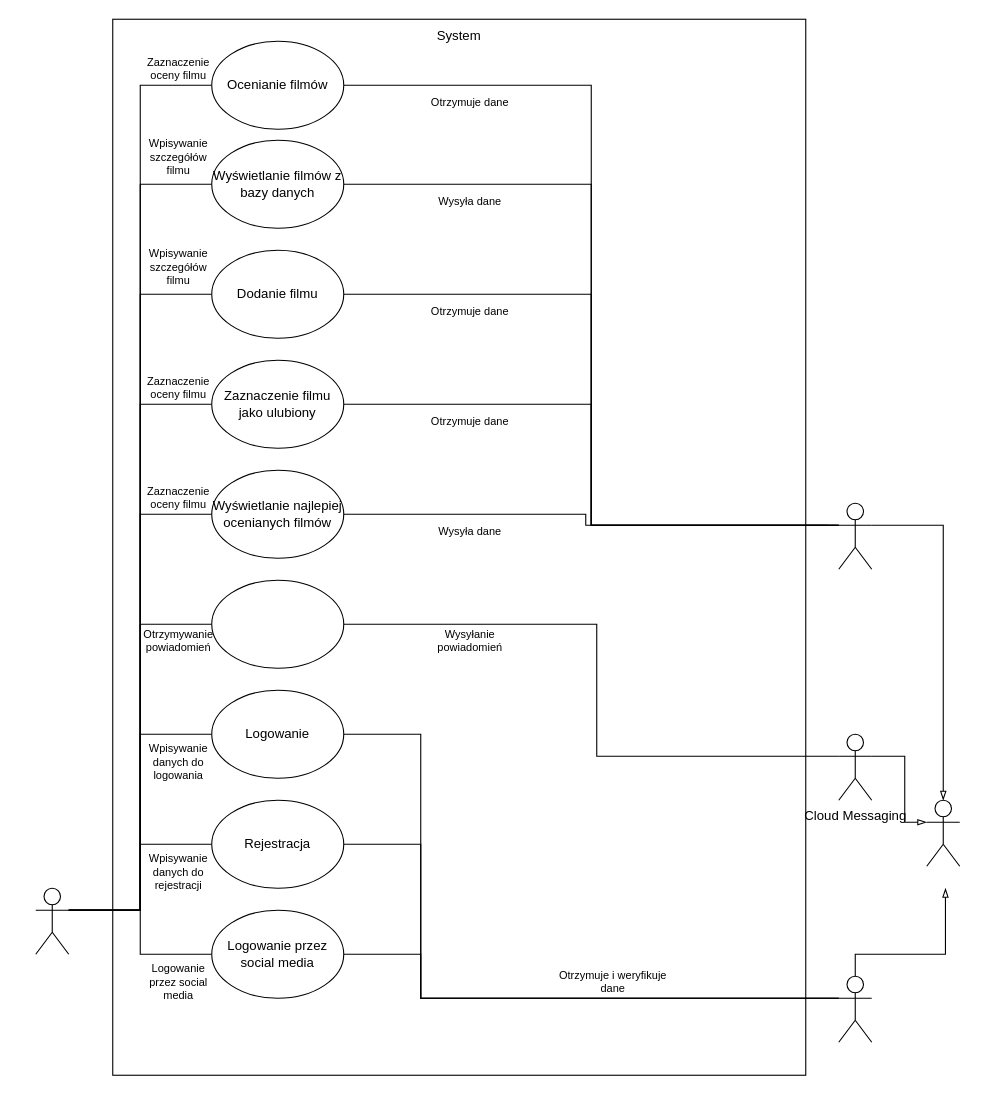
This 988x1095 diagram has some shape labels left out. Here are the shapes that lost their labels. From the top down, the centre of each, then its label:
At (x=855, y=535): "Firestore".
At (x=277, y=623): "Powiadomienia".
At (x=943, y=832): "Firebase".
At (x=52, y=920): "Użytkownik".
At (x=855, y=1008): "Authentication".
